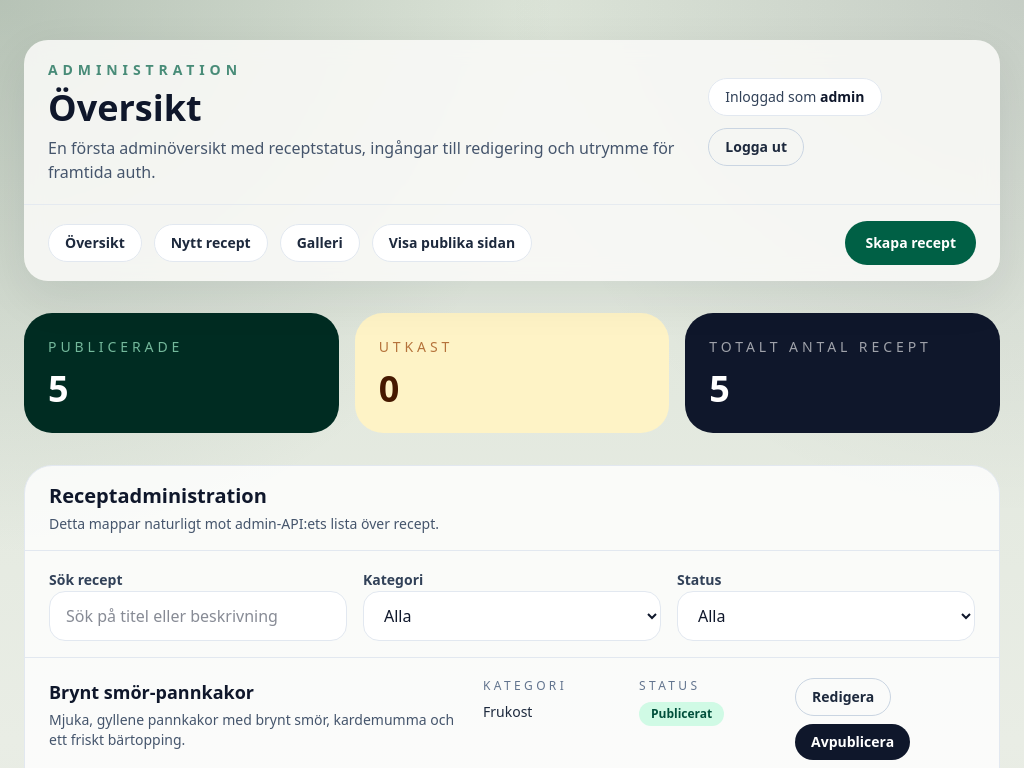
AdminDashboardPage › filters the visible list by selected status
This screenshot has width=1024, height=768.
Expected: the text "Brynt smör-pannkakor" is shown, [49,680,254,704]
Select "Utkast" in the dropdown labelled "Status" at (826, 616), box [677,591,975,641]
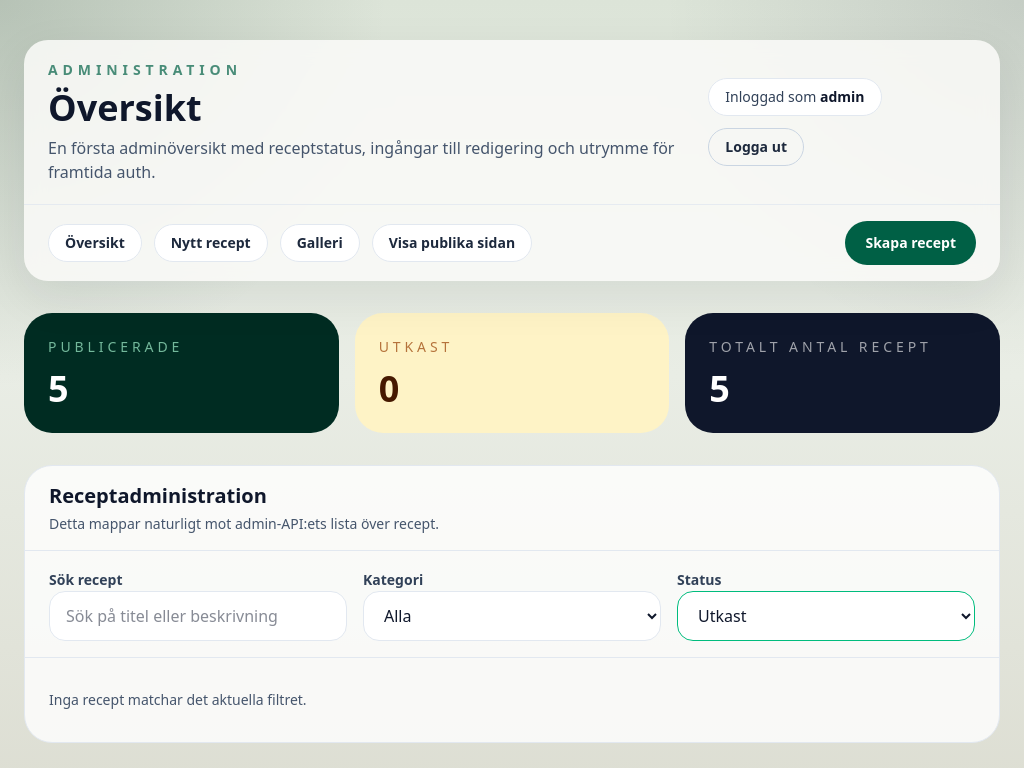
Expected: the text "Brynt smör-pannkakor" is gone
